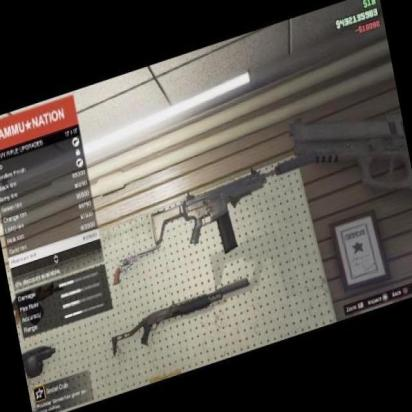Gun: (144, 163, 283, 275)
